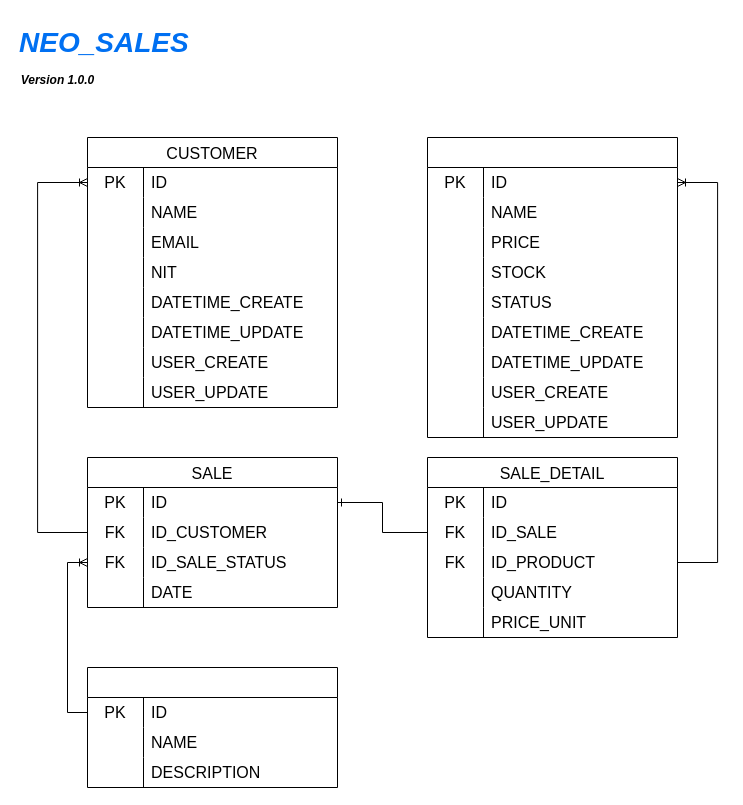
The diagram is 743 pixels wide and 805 high, and some of its shapes have lost their labels. The shapes that lost their labels are listed below. From the top down, each one's box as (x1, y1, x2, y2) in pixels, then its label:
(426, 136, 678, 438): PRODUCT
(86, 666, 338, 788): SALE_STATUS
